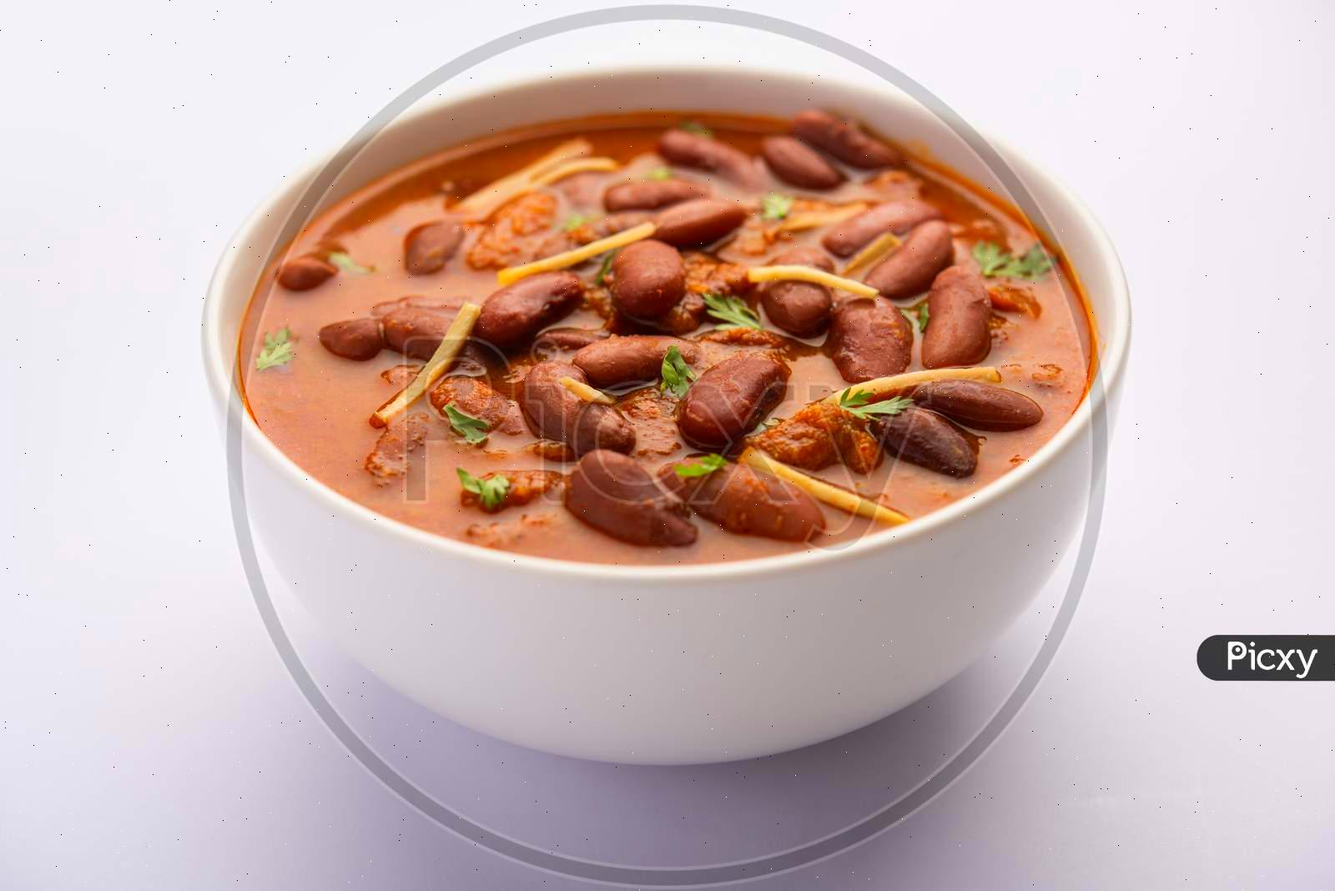rajma: (298, 154, 1076, 555)
